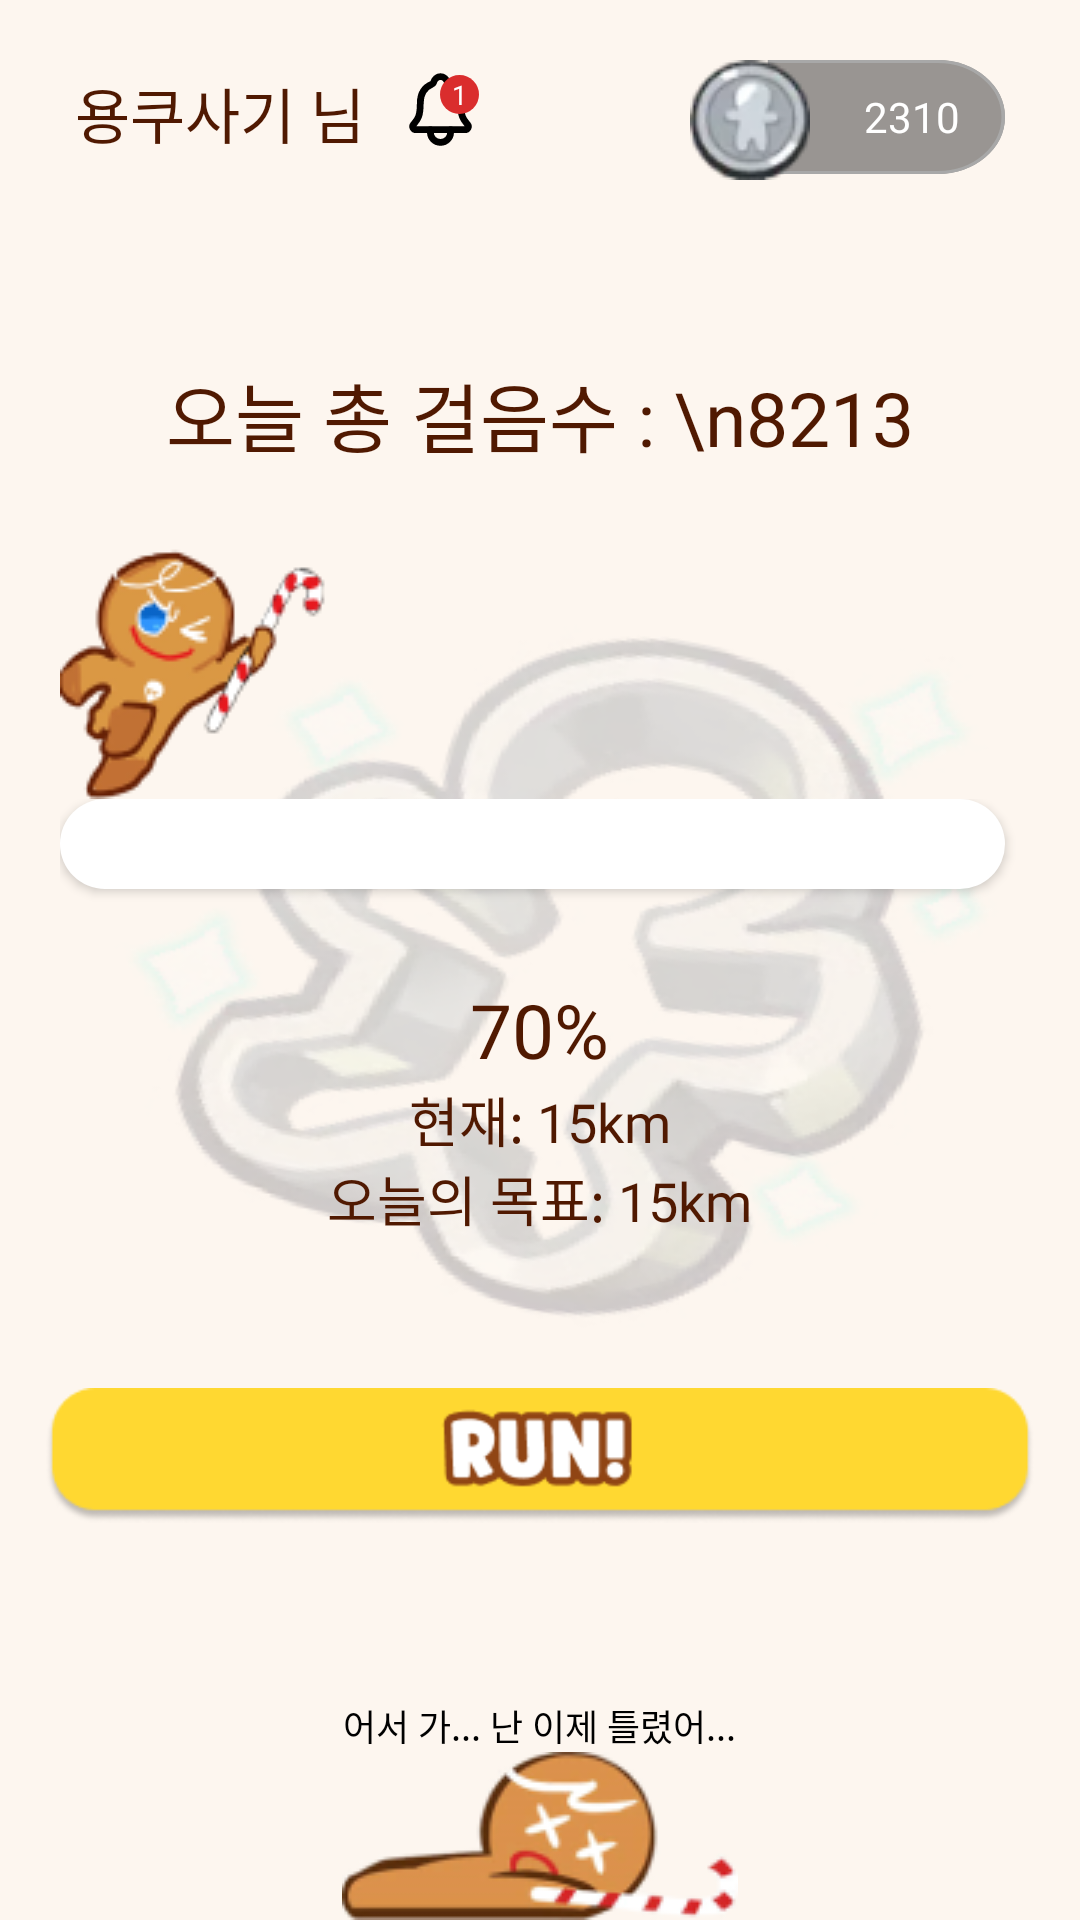

Named icons in this screenshot (1080px x 1920px) and their centers, (x,y):
notifications: (444,109)
silver coin: (750,120)
